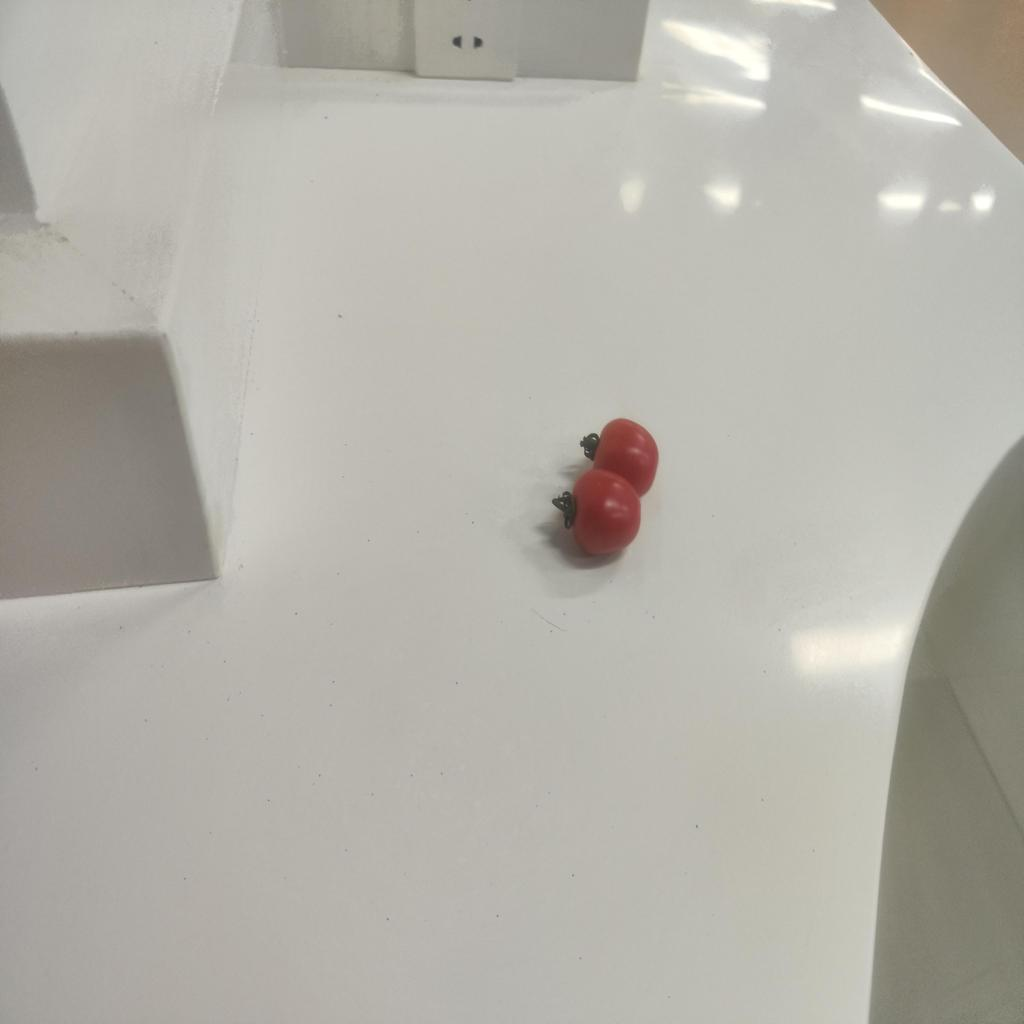tomato: (555, 466, 649, 558), (583, 417, 661, 502)
